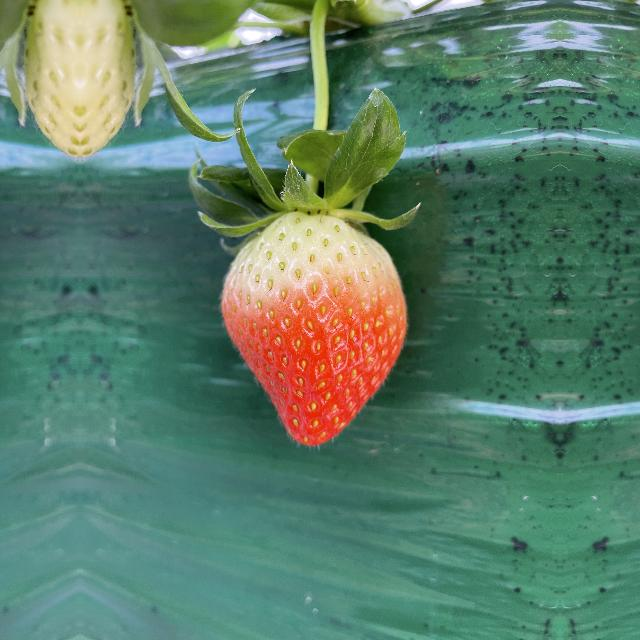Health_75: (214, 200, 416, 448)
